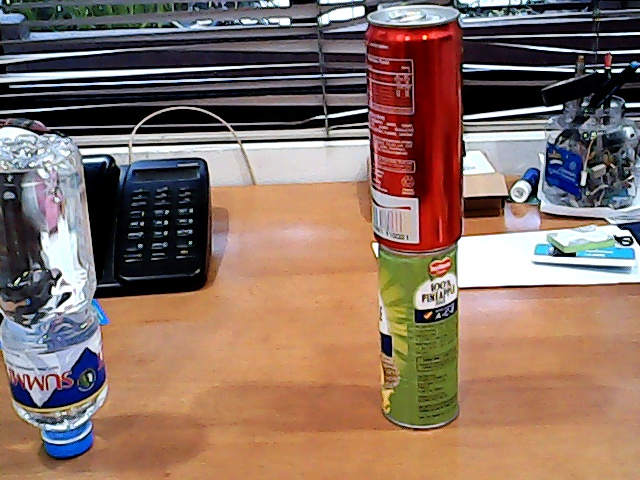Cola: (353, 1, 475, 247)
Pine Juice: (362, 240, 475, 434)
Summit Water: (1, 133, 108, 460)
